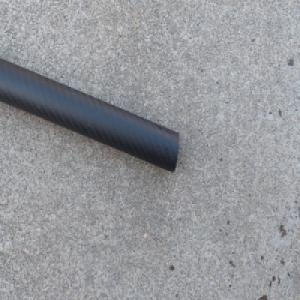LuggagePart: (0, 51, 181, 173)
